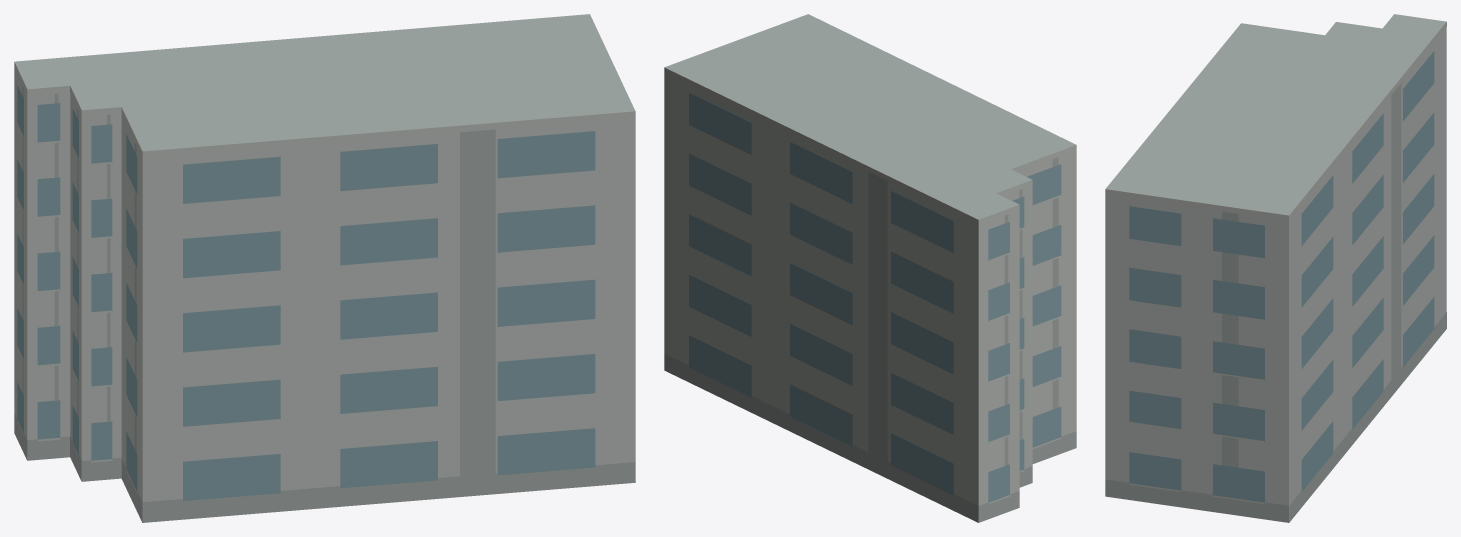
File: survey-upis-32603224.glb
The picture shows the model from 3 angles, left to right: view 1: azimuth 30°, elevation 25°; view 2: azimuth 150°, elevation 25°; view 3: azimuth 270°, elevation 25°; orthographic projection. The views are drawn at different scales.
Parts seen in each view (by area): view 1: survey-upis-32603224.tmp; view 2: survey-upis-32603224.tmp; view 3: survey-upis-32603224.tmp.
Part boxes in pixels (left/top/right/bottom): survey-upis-32603224.tmp: left=14, top=14, right=635, bottom=522; survey-upis-32603224.tmp: left=664, top=14, right=1076, bottom=522; survey-upis-32603224.tmp: left=1105, top=14, right=1446, bottom=522.
Size of the model in its own units: 19 by 13.5 by 13.6.
